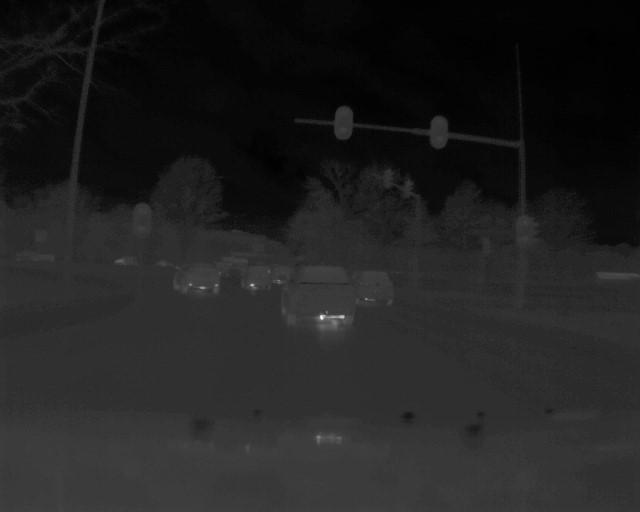car: (289, 260, 364, 325), (368, 264, 405, 314), (183, 257, 222, 294), (243, 263, 271, 293), (117, 255, 138, 270)
